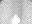person: (11, 15, 19, 23)
